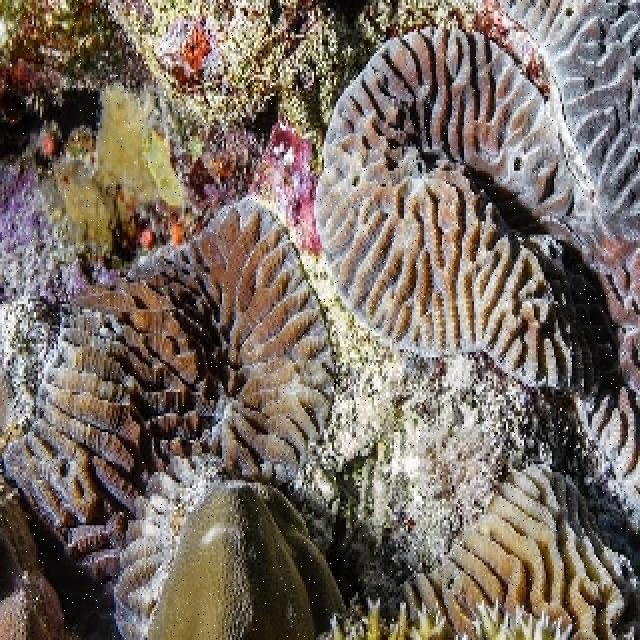reefs: (315, 25, 638, 487), (4, 195, 337, 619), (378, 463, 624, 637)
